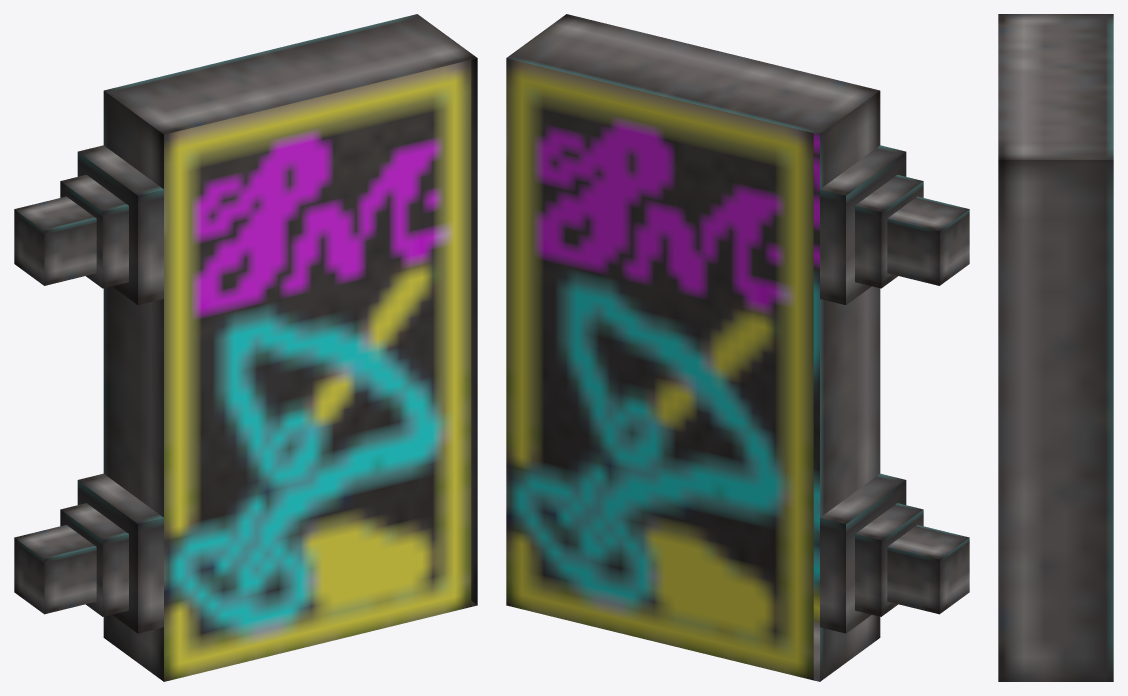
File: Poly_SF_Outside_B_Board_Neo_Sign_09.obj
The picture shows the model from 3 angles, left to right: view 1: azimuth 30°, elevation 25°; view 2: azimuth 150°, elevation 25°; view 3: azimuth 270°, elevation 25°; orthographic projection. The views are drawn at different scales.
Parts seen in each view (by area): view 1: Cube, Cube.001; view 2: Cube, Cube.001; view 3: Cube.
Part boxes in pixels (x1,y1,x2,y2): Cube: [103, 14, 477, 681]; Cube.001: [14, 145, 163, 633]; Cube: [506, 14, 880, 681]; Cube.001: [820, 145, 969, 633]; Cube: [998, 14, 1113, 681].
Bounding box in the file's own units: 0.8 × 1 × 0.2.
1 material, 1 textured.
